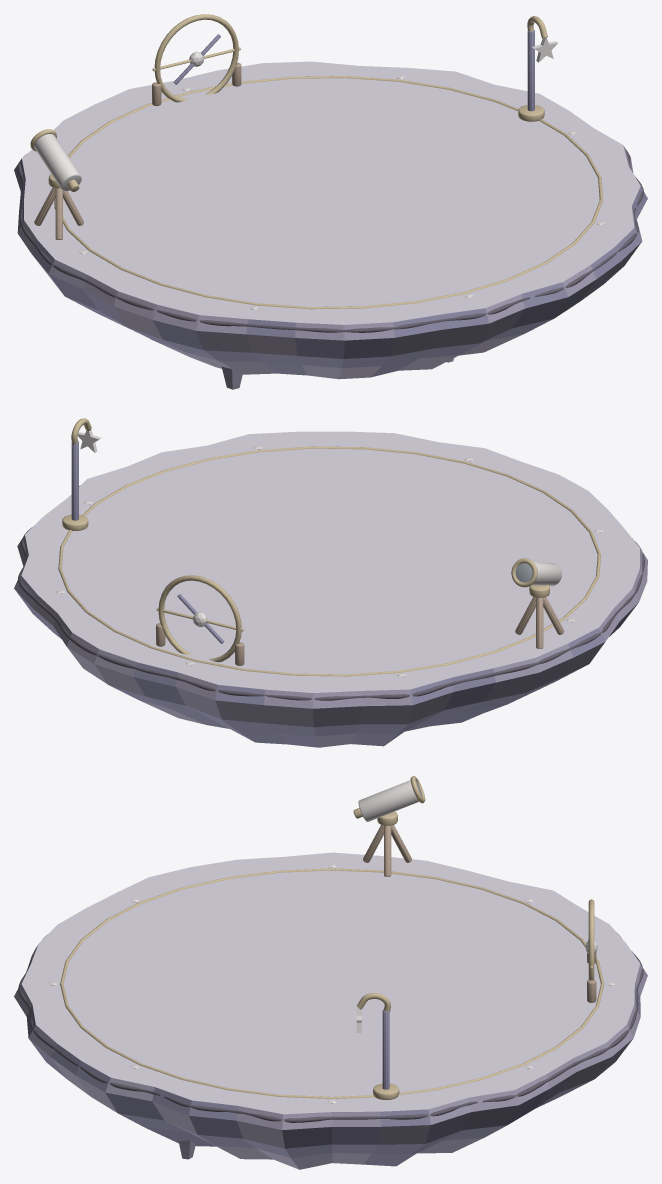
File: env_celestial_arcade.glb
3 views of the same model, one above another, from view 1: azimuth 30°, elevation 25°; view 2: azimuth 150°, elevation 25°; view 3: azimuth 270°, elevation 25° (orthographic).
Visible parts, largest first — view 1: island_flat_top_zero.002, observatory_matte_circle_inlay, island_dark_neutral_rim.002, astrolabe_meridian_ring, celestial_telescope_body, observatory_star_lamp_stem; view 2: island_flat_top_zero.002, observatory_matte_circle_inlay, island_dark_neutral_rim.002, astrolabe_meridian_ring, observatory_star_lamp_stem, celestial_telescope_body; view 3: island_flat_top_zero.002, observatory_matte_circle_inlay, island_dark_neutral_rim.002, celestial_telescope_body, observatory_star_lamp_stem.
Boxes of the visible parts, bbox=[...] form: island_flat_top_zero.002: bbox=[14, 61, 647, 379]; observatory_matte_circle_inlay: bbox=[54, 76, 603, 309]; island_dark_neutral_rim.002: bbox=[17, 150, 643, 332]; astrolabe_meridian_ring: bbox=[154, 14, 238, 102]; celestial_telescope_body: bbox=[34, 134, 81, 191]; observatory_star_lamp_stem: bbox=[527, 30, 534, 111]; island_flat_top_zero.002: bbox=[14, 431, 647, 747]; observatory_matte_circle_inlay: bbox=[58, 446, 600, 676]; island_dark_neutral_rim.002: bbox=[18, 485, 644, 700]; astrolabe_meridian_ring: bbox=[158, 575, 241, 662]; observatory_star_lamp_stem: bbox=[71, 440, 78, 520]; celestial_telescope_body: bbox=[532, 561, 561, 586]; island_flat_top_zero.002: bbox=[14, 852, 647, 1169]; observatory_matte_circle_inlay: bbox=[60, 868, 604, 1098]; island_dark_neutral_rim.002: bbox=[18, 933, 643, 1122]; celestial_telescope_body: bbox=[358, 780, 418, 821]; observatory_star_lamp_stem: bbox=[382, 1009, 389, 1089].
Bounding box in the file's own units: 9.18 × 3.95 × 9.17.
